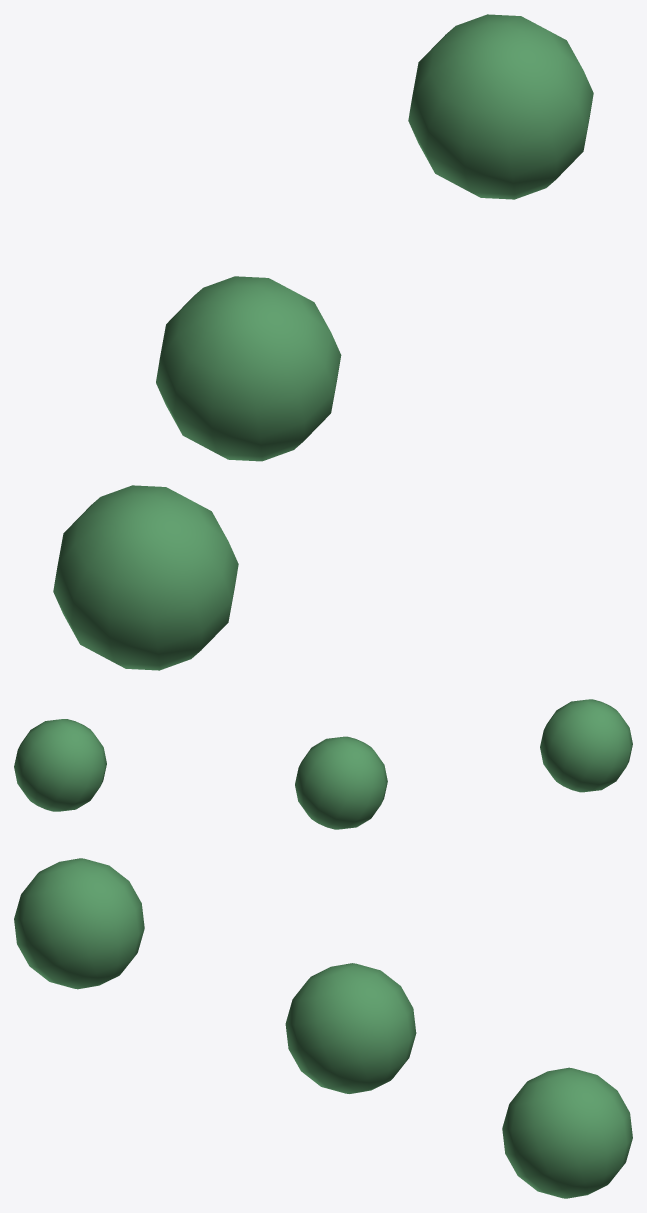
The picture shows the model from 3 angles, top to bottom: view 1: azimuth 30°, elevation 25°; view 2: azimuth 150°, elevation 25°; view 3: azimuth 270°, elevation 25°; orthographic projection. The views are drawn at different scales.
Visible parts, largest first — view 1: 右侧腹股沟浅淋巴结上外侧群; view 2: 右侧腹股沟浅淋巴结上外侧群; view 3: 右侧腹股沟浅淋巴结上外侧群.
Boxes of the visible parts, x1,y1,x2,y2 form: 右侧腹股沟浅淋巴结上外侧群: (53,14,593,670); 右侧腹股沟浅淋巴结上外侧群: (14,699,632,829); 右侧腹股沟浅淋巴结上外侧群: (14,858,632,1198).
Size of the model in its own units: 0.0204 by 0.00493 by 0.018.
